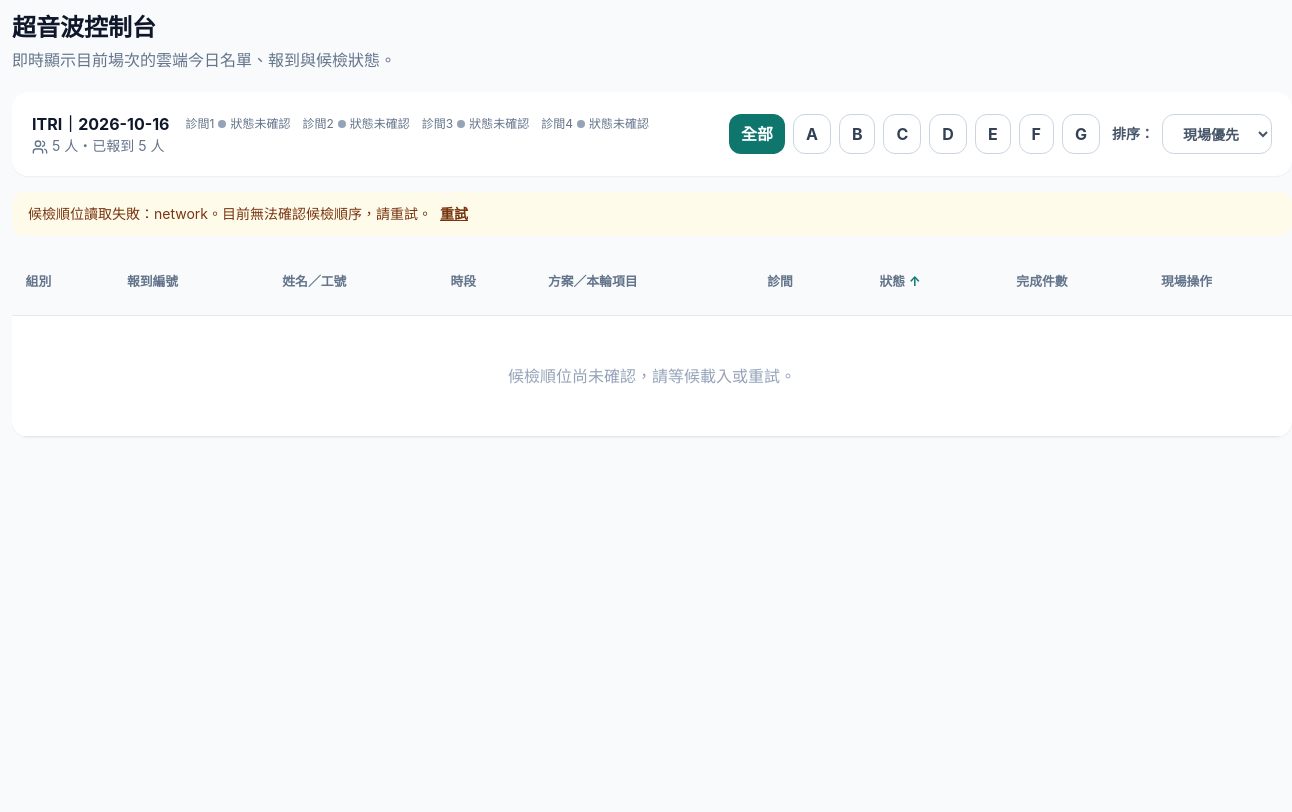
標準控制台提早安排與共用伺服器順位 › 順位更新失敗清除可操作的舊rank，顯示明確錯誤與重試
Expected: the message "候檢順位讀取失敗：network。目前無法確認候檢順序，請重試。 重試" is shown, [12,192,1291,236]
Expected: the table reads "候檢順位尚未確認，請等候載入或重試。", [508,366,796,386]
Click the button "重試": (454, 214) [440,204,468,224]
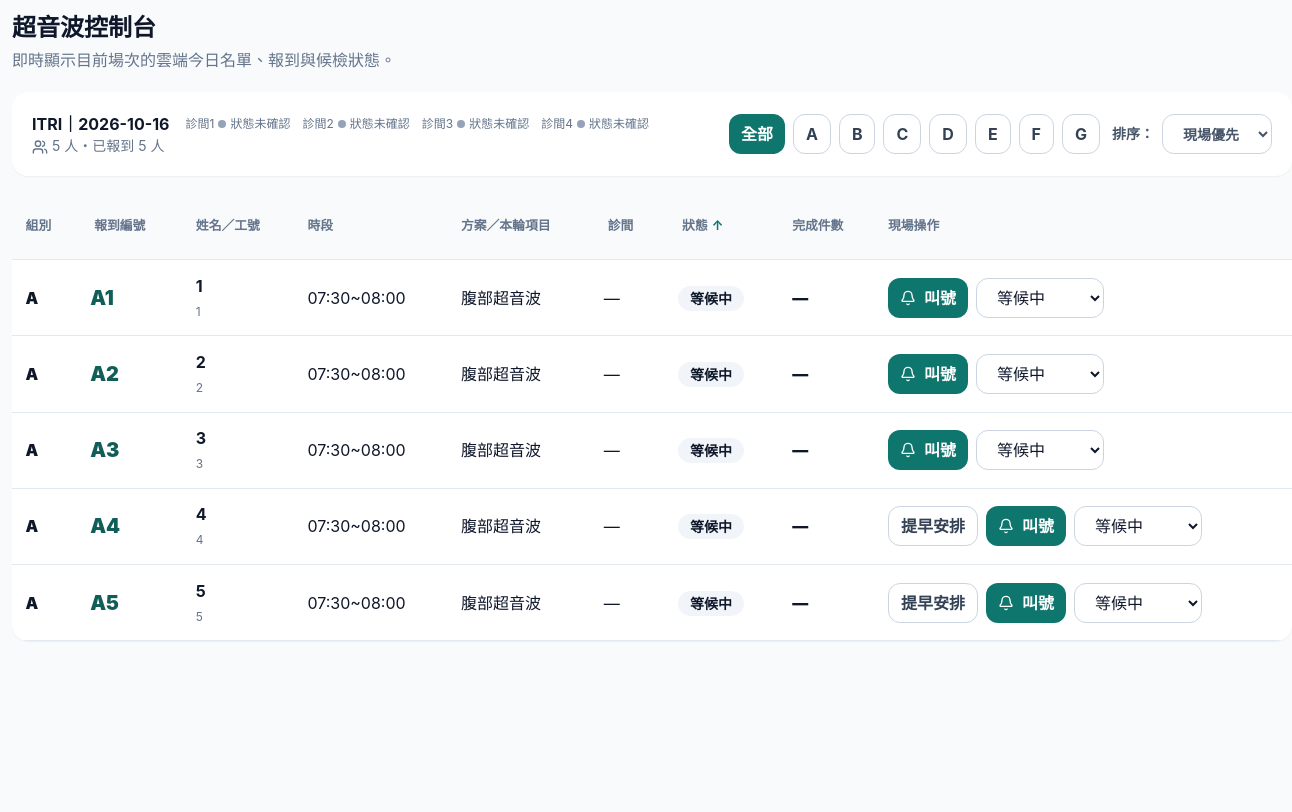
Expected: the message "候檢順位讀取失敗：network。目前無法確認候檢順序，請重試。 重試" is gone
Expected: the button "提早安排" in the row of "A4" is shown, [888,506,978,546]
